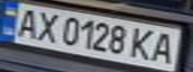0: (57, 15, 81, 47)
1: (75, 18, 96, 51)
2: (90, 19, 112, 53)
8: (106, 22, 133, 56)
A: (148, 29, 181, 64), (9, 6, 42, 38)
K: (127, 26, 160, 62)
X: (30, 9, 63, 44)
